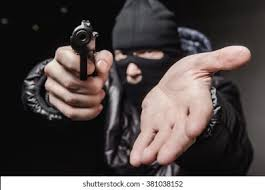gun: (70, 16, 101, 83)
